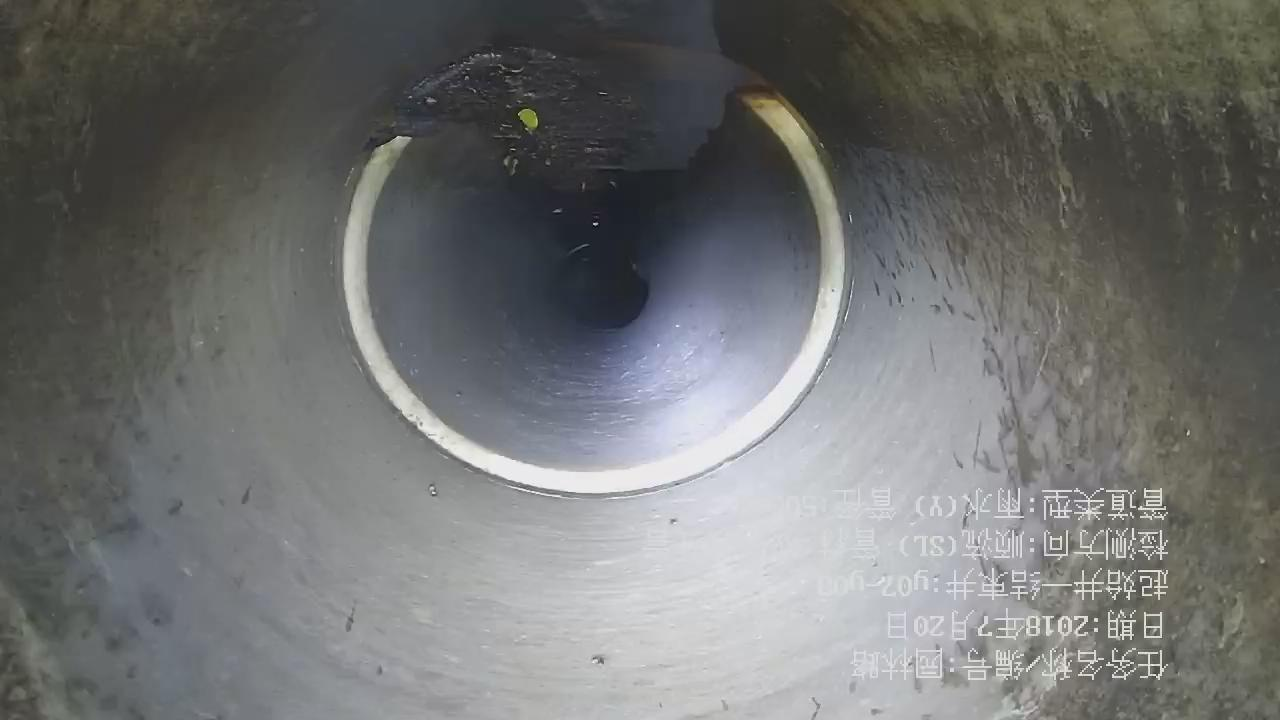CJ: (381, 38, 729, 218)
CKTJ: (334, 69, 870, 507)
